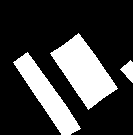parkingspot: (13, 52, 80, 135), (64, 33, 117, 98), (50, 44, 102, 109), (120, 60, 133, 83)
